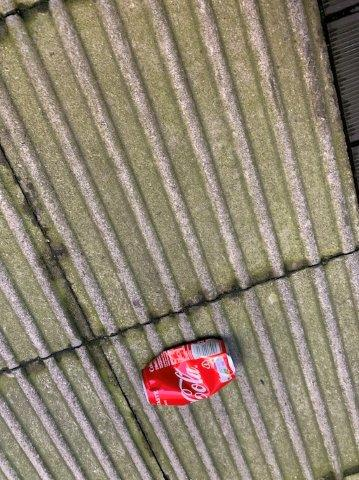kaleng: (143, 340, 235, 406)
